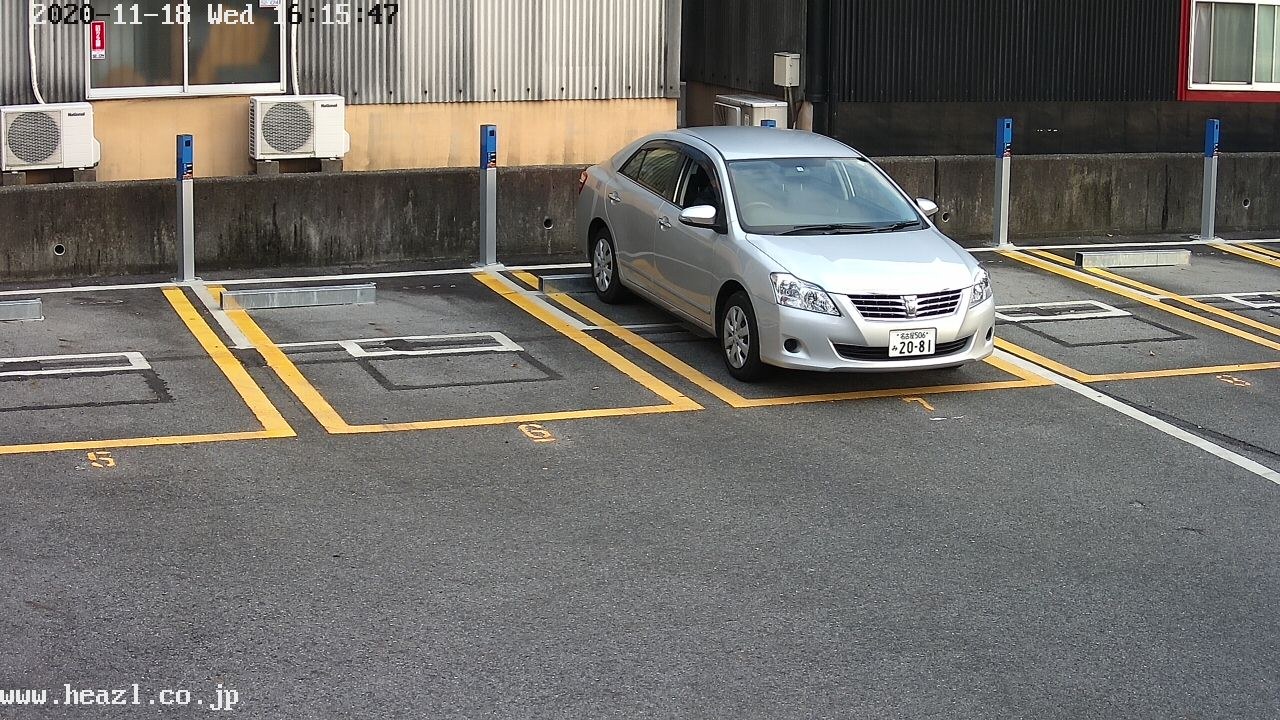number_plate: (890, 329, 937, 355)
